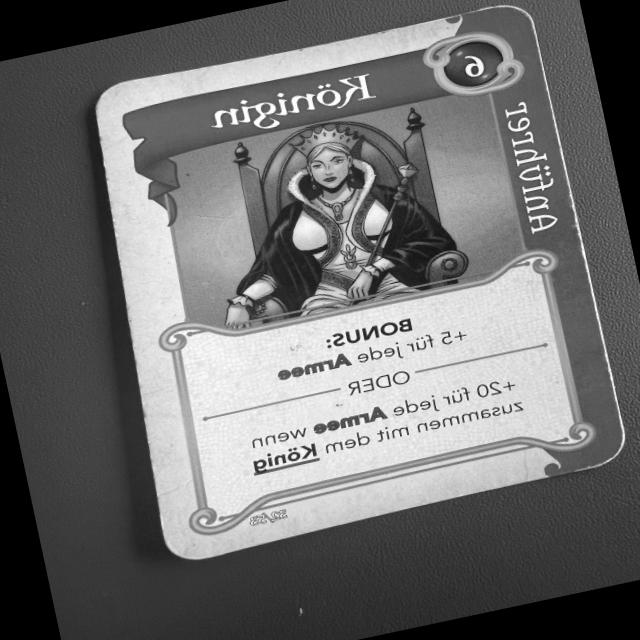Queen: (97, 0, 635, 571)
